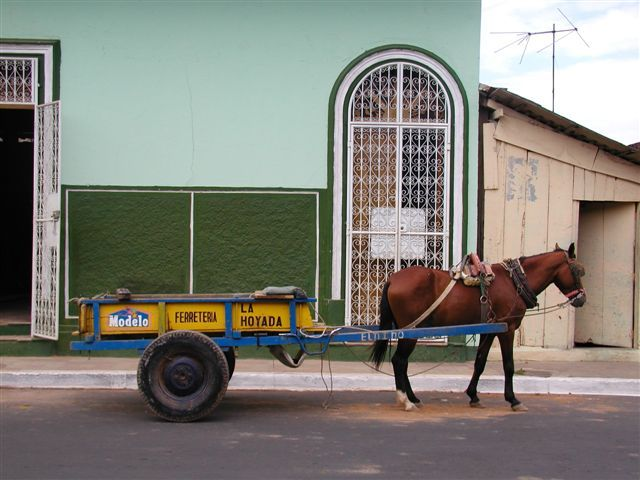horse: (367, 242, 588, 412)
